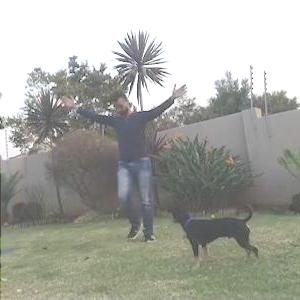takeoff: (61, 83, 189, 230)
